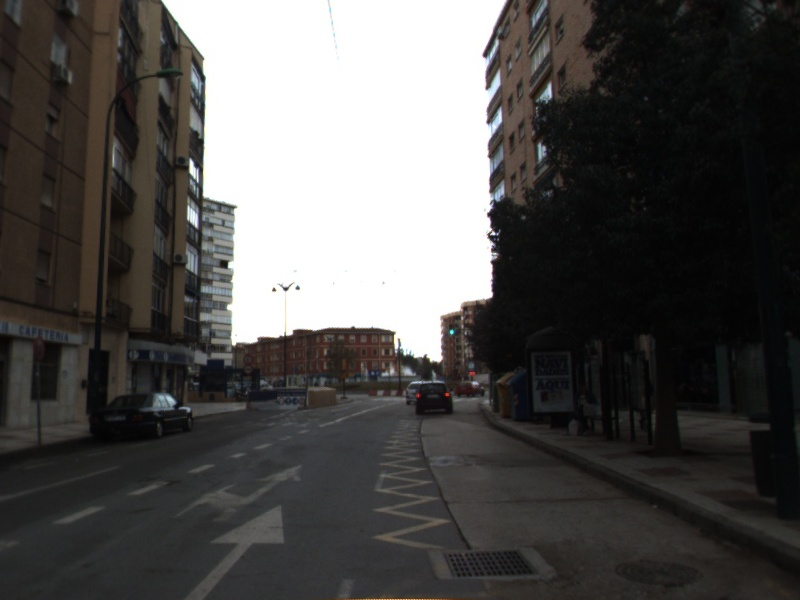STRAIGHT: (185, 502, 287, 600)
STRAIGHT_LEFT: (171, 462, 305, 525)
